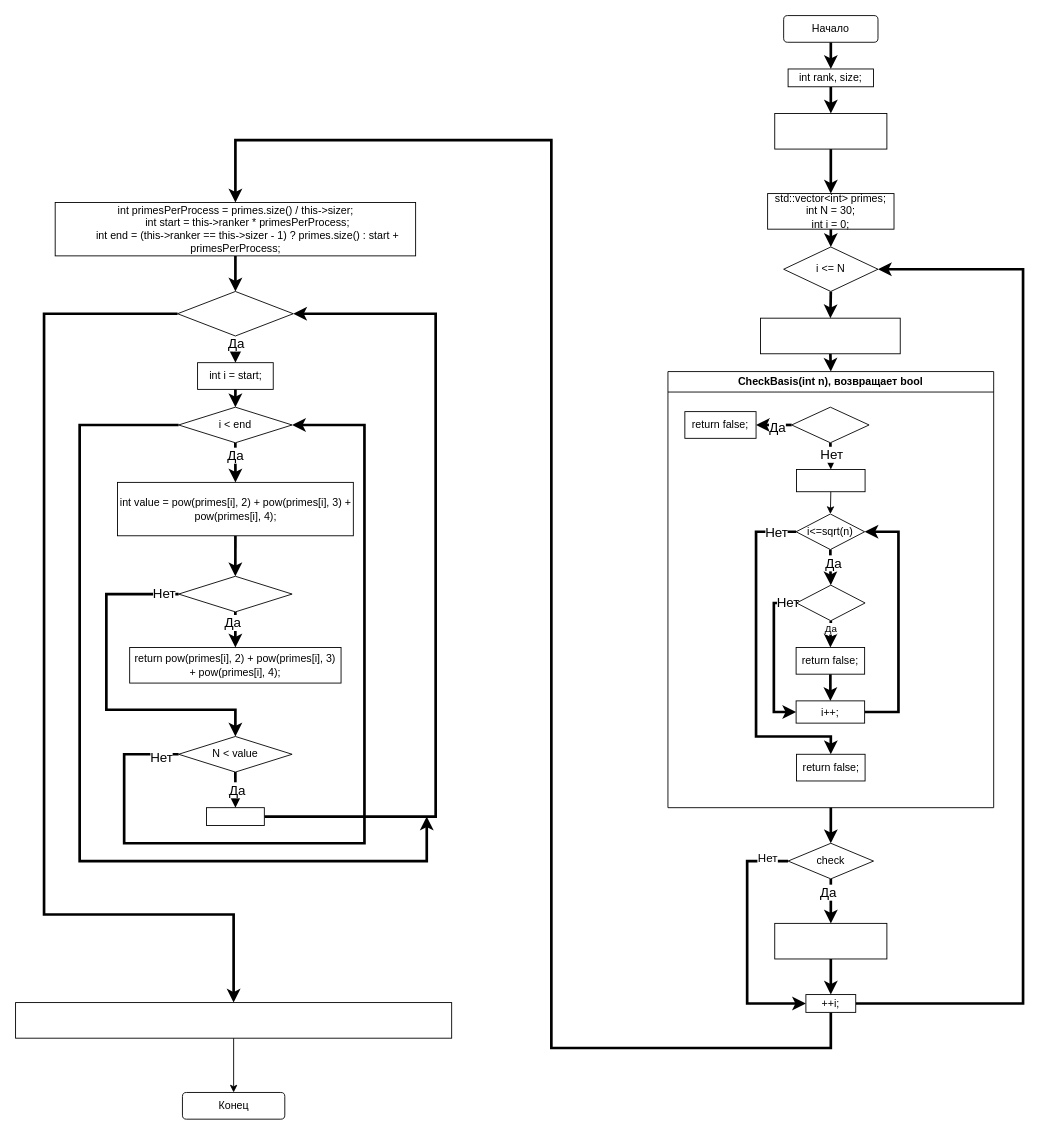
Image size: 1047x1135. Some labels were removed from this diagram. The shapes that lost their labels are listed below. From the top down, each one's centre as x and y in pixels, then its label:
(830,131): Инициализация MPI и получение size и rank
(235,313): N >= 28
(830,335): check = CheckBasis(i);
(830,424): n <= 1
(830,480): int i = 2;
(235,593): N == value
(830,602): n%i == 0
(235,816): break;
(830,940): primes.push_back(i);
(233,1020): Синхронизация выходного значения с рангом 0
